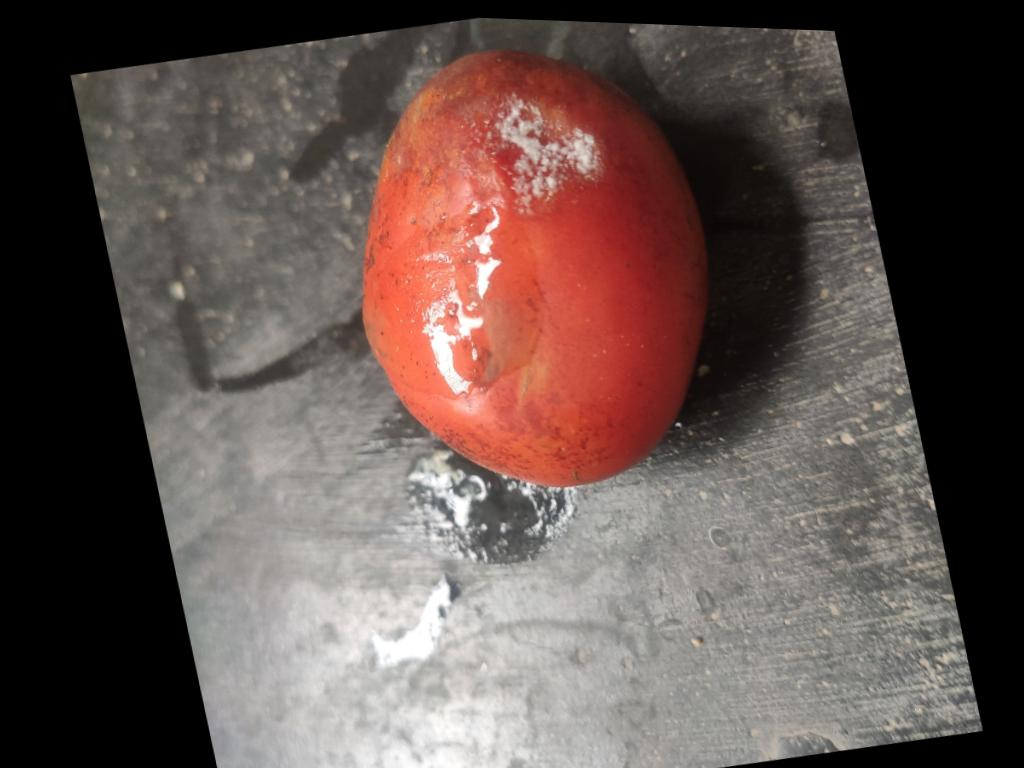rot_mold_decay: (493, 90, 599, 212)
tomato: (363, 50, 707, 486)
